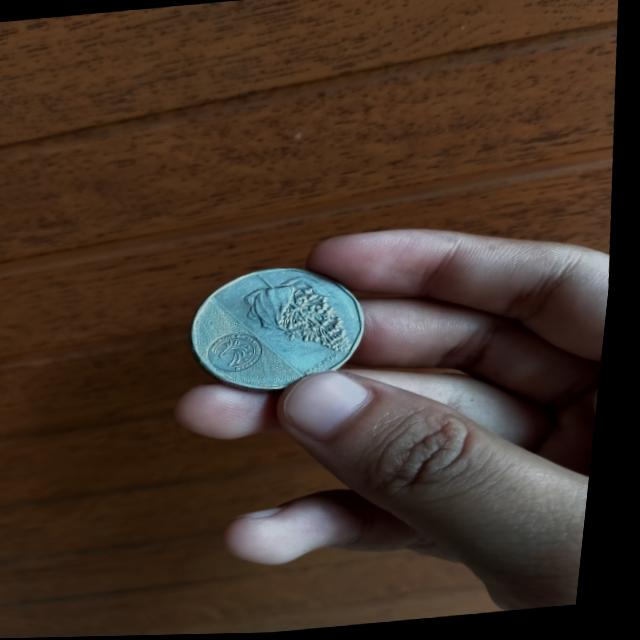10_New_Back: (229, 254, 376, 364)
